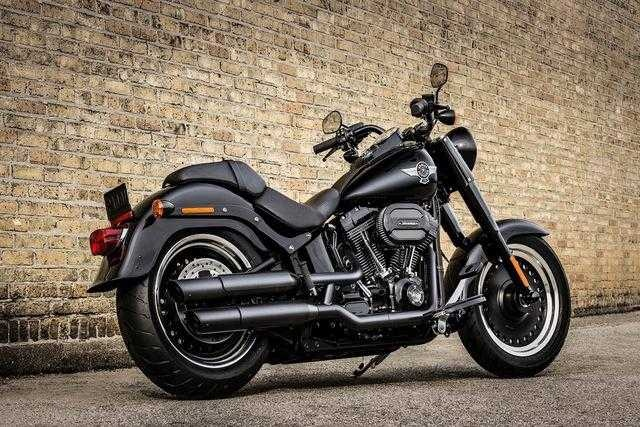motorbike: (85, 63, 572, 400)
